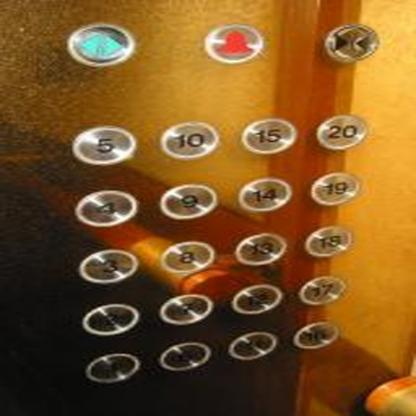10: (158, 120, 218, 160)
12: (230, 283, 282, 314)
13: (232, 231, 289, 266)
14: (234, 176, 292, 211)
15: (241, 117, 295, 155)
17: (297, 275, 344, 304)
18: (304, 225, 352, 257)
19: (307, 171, 359, 205)
2: (83, 302, 139, 336)
20: (313, 113, 367, 149)
3: (76, 248, 137, 283)
4: (72, 189, 136, 226)
5: (69, 123, 136, 166)
7: (155, 293, 216, 325)
8: (158, 239, 214, 272)
9: (158, 182, 219, 220)
alarm: (202, 23, 263, 64)
blur: (82, 352, 140, 384), (158, 340, 213, 372), (224, 330, 276, 360), (292, 321, 338, 348)
close: (322, 22, 380, 62)
open: (68, 23, 134, 67)
